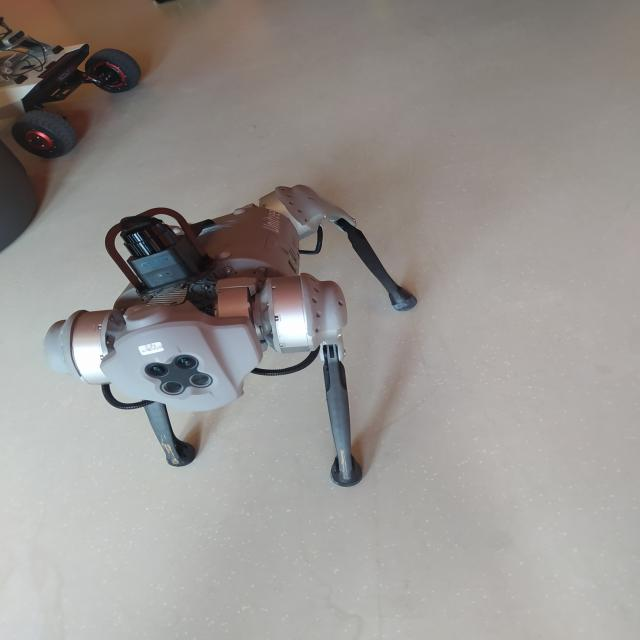unitree-go1-robot: (31, 177, 434, 501)
